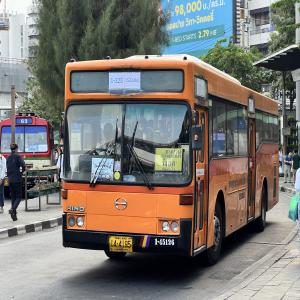BMTA-bus: (60, 55, 281, 265), (0, 113, 59, 195)
Bus Line Number: (109, 70, 142, 92), (20, 118, 28, 124)
Bus Side Number: (153, 234, 178, 250)
Destination Sign: (153, 146, 183, 172)
